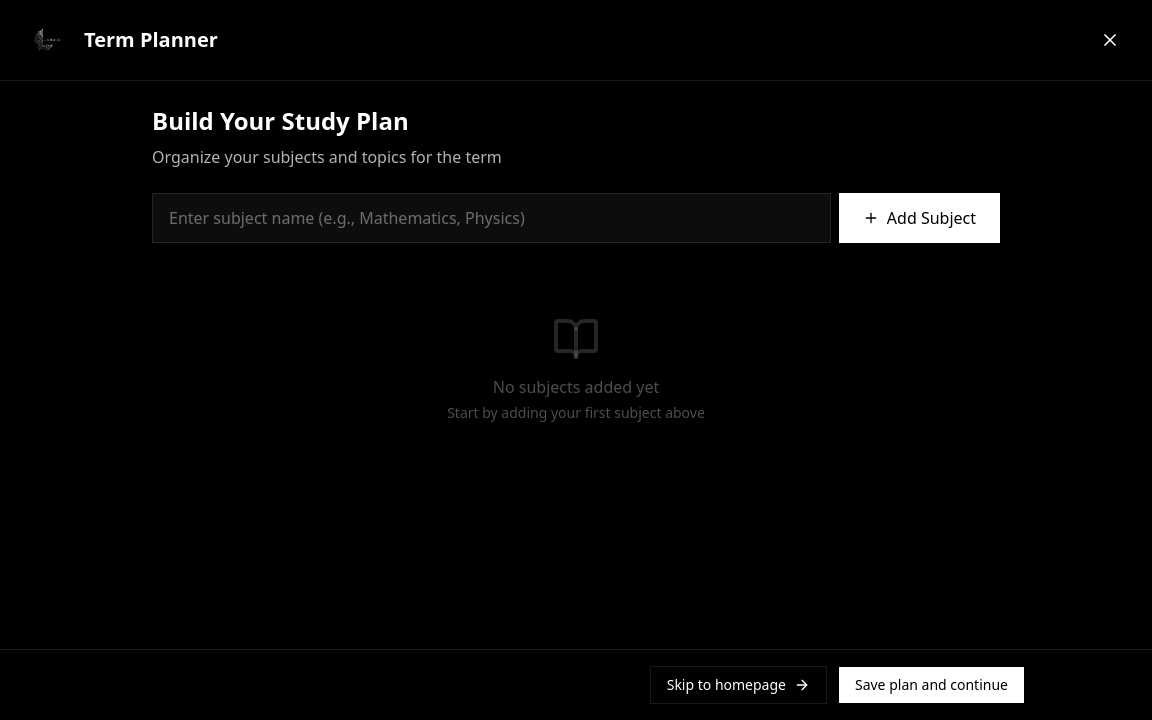
Onboarding Flow Tests › Term Plan Page › should handle adding subjects and topics
This screenshot has width=1152, height=720.
Note: Add a subject
Type "Mathematics" into the field with placeholder "Enter subject name (e.g., Mathematics, Physics)" at (491, 218), box [152, 193, 831, 243]
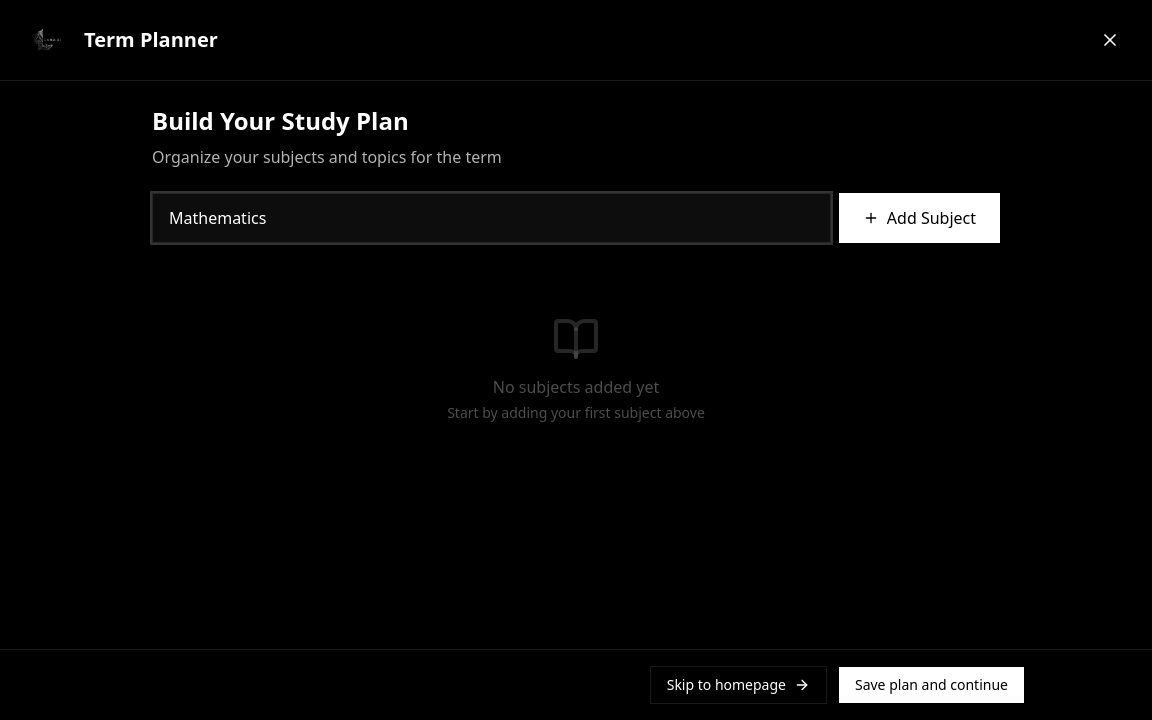
Click the button "Add Subject" at (919, 218), box [839, 193, 1000, 243]
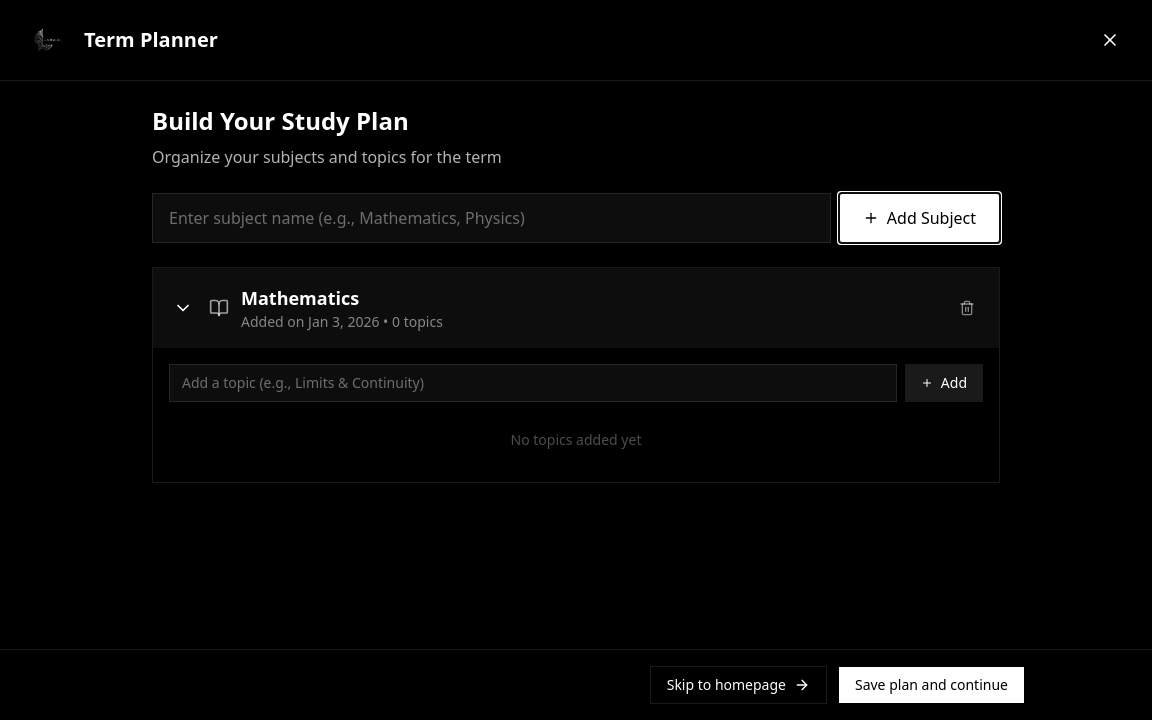
Check: the heading "Mathematics" is shown, box [241, 286, 359, 310]
Type "Algebra" into the field with placeholder "Add a topic (e.g., Limits & Continuity)" at (533, 383), box [169, 364, 897, 402]
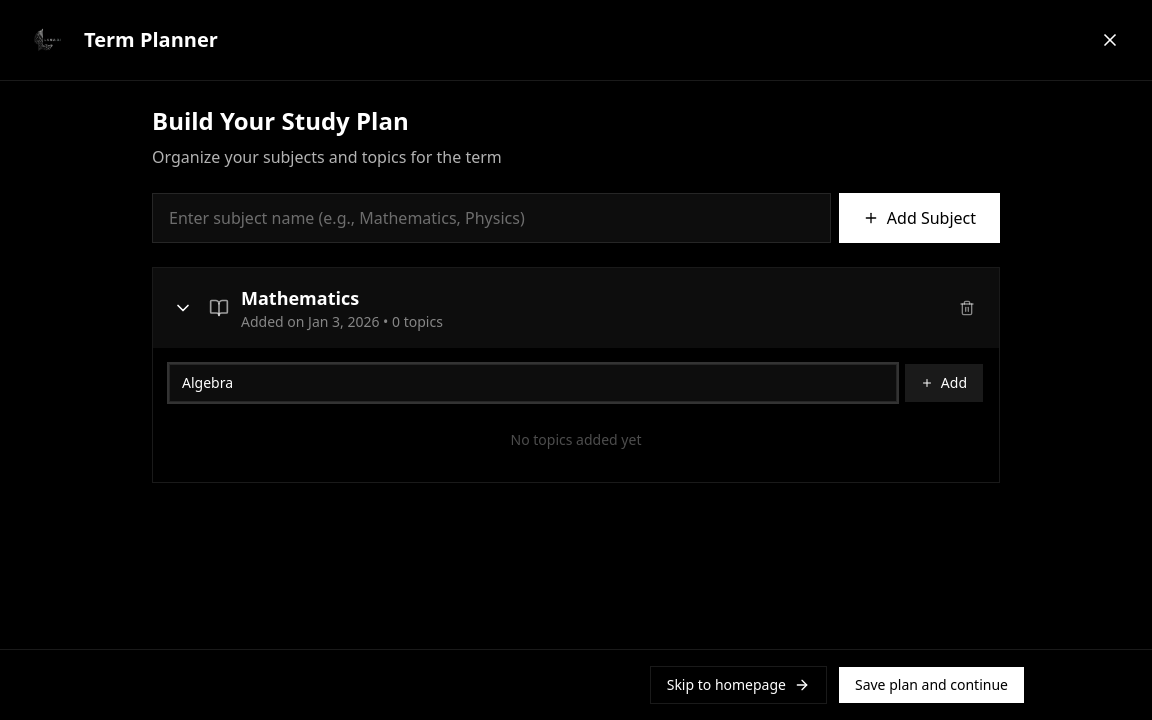
Click the button "Add" at (944, 383), box [905, 364, 983, 402]
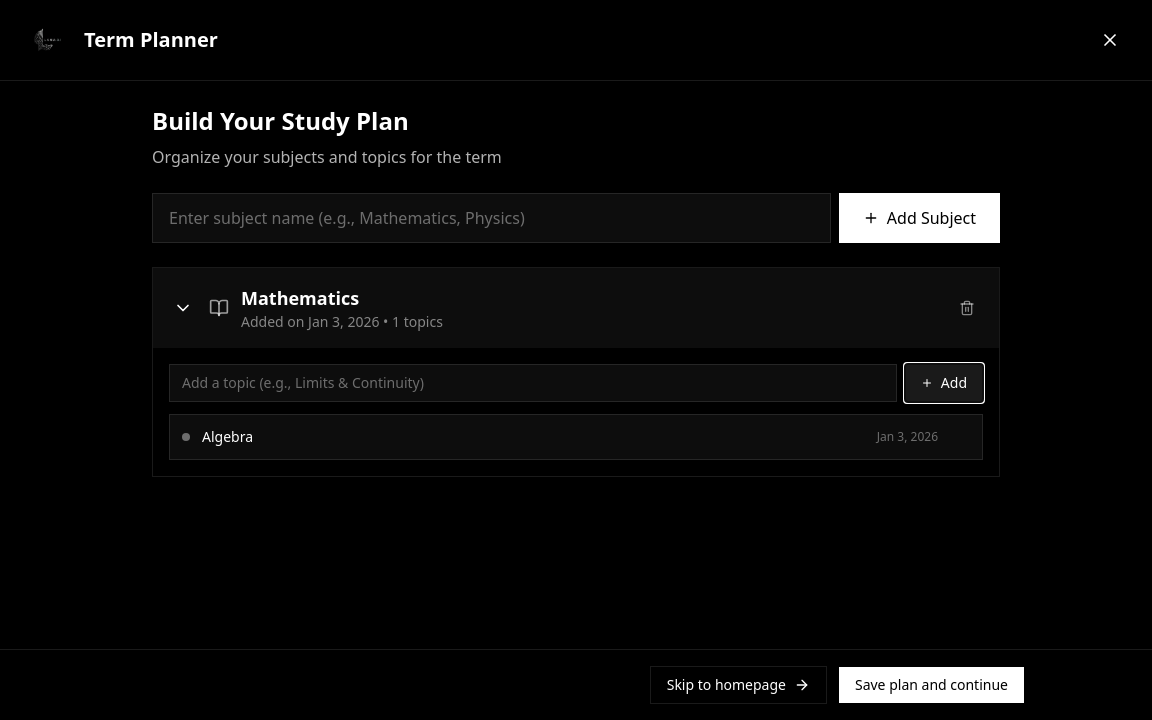
Check: the text "Algebra" is shown, box [202, 427, 253, 447]
